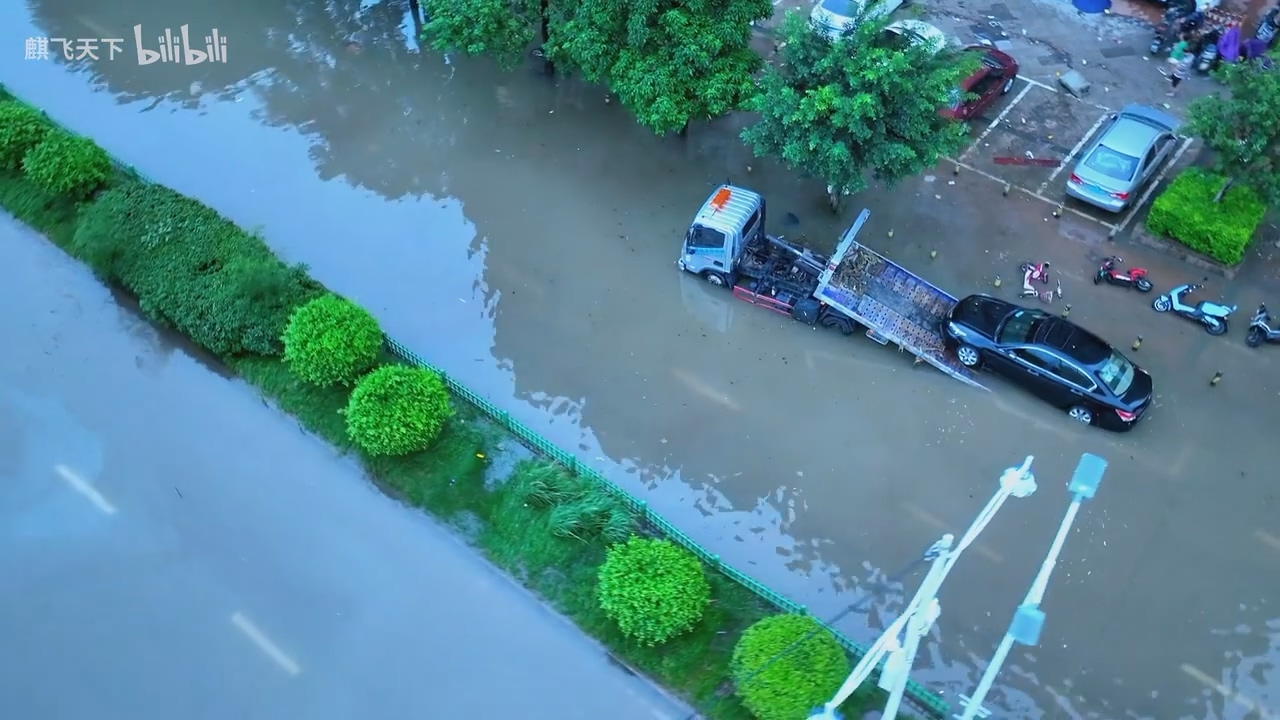puddle: (19, 87, 1192, 720)
